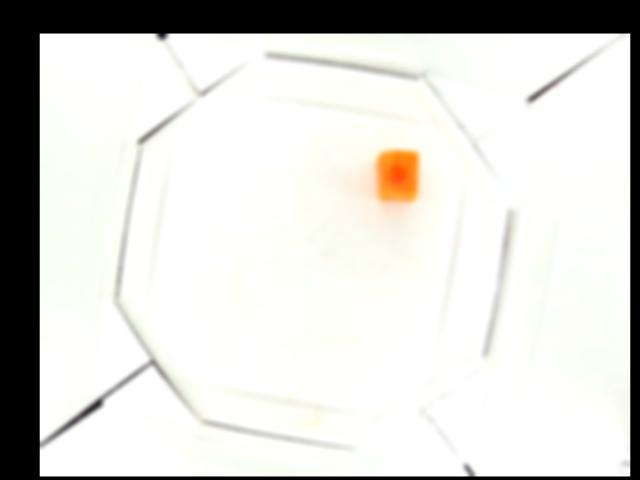Carrot: (373, 148, 419, 202)
